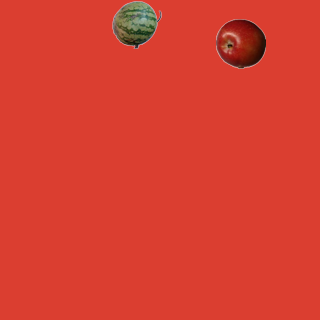Apple Braeburn: (215, 18, 265, 68)
Watermelon: (111, 0, 161, 49)
